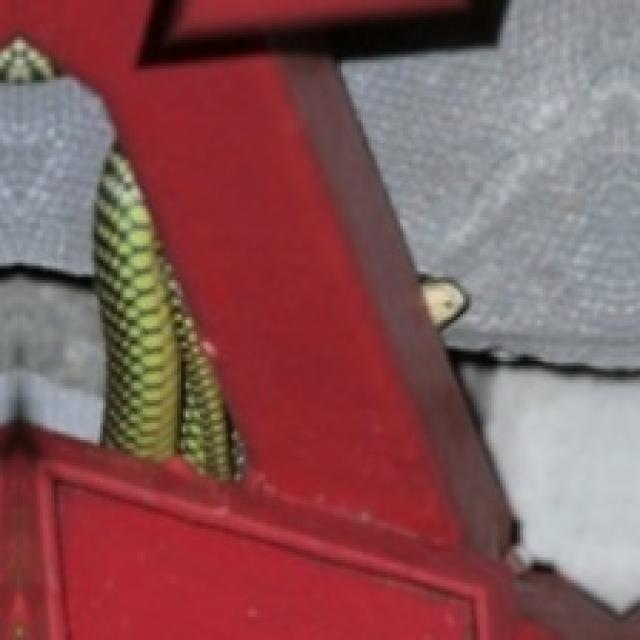paradise tree snake: (94, 146, 240, 477), (94, 149, 237, 477)
